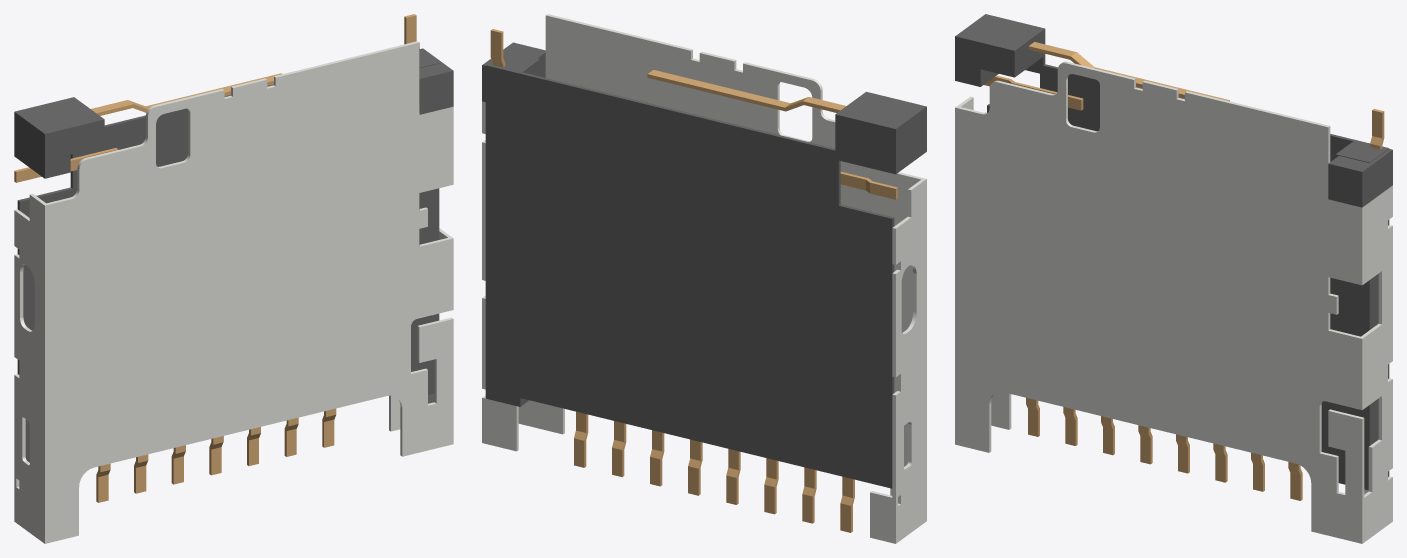
Rendered from microSD_HC_Hirose_DM3D-SF.glb.
3 renders of one model, left to right at view 1: azimuth 30°, elevation 25°; view 2: azimuth 150°, elevation 25°; view 3: azimuth 330°, elevation 25°, orthographic.
Parts seen in each view (by area): view 1: Shape_IndexedFaceSet.294, Shape_IndexedFaceSet.090, Shape_IndexedFaceSet.029, Shape_IndexedFaceSet.013, Shape_IndexedFaceSet.144, Shape_IndexedFaceSet.011, Shape_IndexedFaceSet.293, Shape_IndexedFaceSet.017, Shape_IndexedFaceSet.267, Shape_IndexedFaceSet.199; view 2: Shape_IndexedFaceSet.028, Shape_IndexedFaceSet.162, Shape_IndexedFaceSet.033, Shape_IndexedFaceSet.090, Shape_IndexedFaceSet.014, Shape_IndexedFaceSet.011, Shape_IndexedFaceSet.196, Shape_IndexedFaceSet.017, Shape_IndexedFaceSet.082, Shape_IndexedFaceSet.095, Shape_IndexedFaceSet.009, Shape_IndexedFaceSet.003 (+4 smaller); view 3: Shape_IndexedFaceSet.294, Shape_IndexedFaceSet.187, Shape_IndexedFaceSet.029, Shape_IndexedFaceSet.144, Shape_IndexedFaceSet.013, Shape_IndexedFaceSet.011, Shape_IndexedFaceSet.293, Shape_IndexedFaceSet.267, Shape_IndexedFaceSet.268, Shape_IndexedFaceSet.005, Shape_IndexedFaceSet.160, Shape_IndexedFaceSet.071.
Part boxes in pixels (x1,y1,x2,y2): Shape_IndexedFaceSet.294: (48,43,453,542); Shape_IndexedFaceSet.090: (14,195,42,542); Shape_IndexedFaceSet.029: (19,108,188,462); Shape_IndexedFaceSet.013: (45,119,104,178); Shape_IndexedFaceSet.144: (411,63,439,394); Shape_IndexedFaceSet.011: (16,98,104,133); Shape_IndexedFaceSet.293: (45,205,48,543); Shape_IndexedFaceSet.017: (16,113,44,178); Shape_IndexedFaceSet.267: (419,71,453,113); Shape_IndexedFaceSet.199: (43,204,44,543); Shape_IndexedFaceSet.028: (520,74,892,488); Shape_IndexedFaceSet.162: (518,15,920,495); Shape_IndexedFaceSet.033: (485,65,520,397); Shape_IndexedFaceSet.090: (896,180,924,541); Shape_IndexedFaceSet.014: (835,114,895,174); Shape_IndexedFaceSet.011: (837,91,926,127); Shape_IndexedFaceSet.196: (485,398,516,451); Shape_IndexedFaceSet.017: (898,106,926,172); Shape_IndexedFaceSet.082: (485,66,516,109); Shape_IndexedFaceSet.095: (870,492,895,542); Shape_IndexedFaceSet.009: (648,70,790,107); Shape_IndexedFaceSet.003: (647,74,840,112); Shape_IndexedFaceSet.294: (958,63,1362,542); Shape_IndexedFaceSet.187: (1364,185,1392,542); Shape_IndexedFaceSet.029: (987,65,1352,455); Shape_IndexedFaceSet.144: (1335,154,1369,490); Shape_IndexedFaceSet.013: (955,36,1014,86); Shape_IndexedFaceSet.011: (955,15,1042,50); Shape_IndexedFaceSet.293: (955,107,958,445); Shape_IndexedFaceSet.267: (1328,163,1362,206); Shape_IndexedFaceSet.268: (1362,150,1392,206); Shape_IndexedFaceSet.005: (1014,30,1043,77); Shape_IndexedFaceSet.160: (991,392,1009,429); Shape_IndexedFaceSet.071: (1336,141,1386,162).
Size of the model in its own units: 4.7 by 4.51 by 0.6102.
